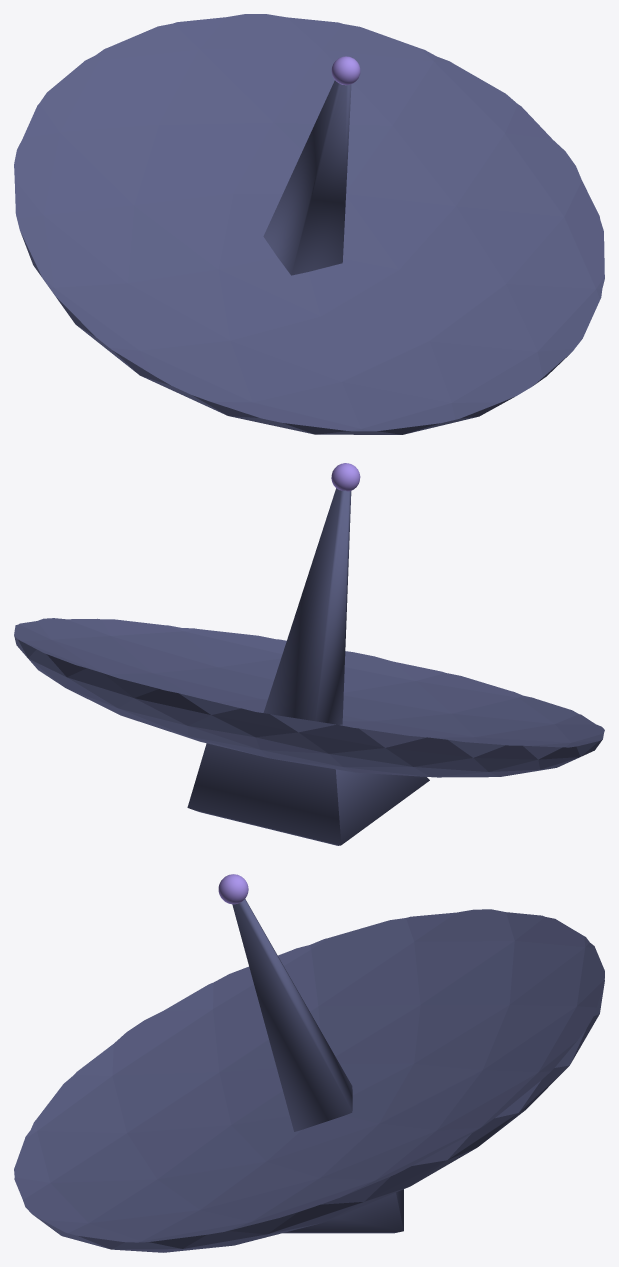
File: receiver_dish.glb
3 renders of one model, top to bottom at view 1: azimuth 30°, elevation 25°; view 2: azimuth 150°, elevation 25°; view 3: azimuth 270°, elevation 25°, orthographic. The views are drawn at different scales.
Visible parts, largest first — view 1: Icosphere, Cube, Icosphere.001; view 2: Icosphere, Cube.001, Cube, Icosphere.001; view 3: Icosphere, Cube, Cube.001, Icosphere.001.
Part boxes in pixels (x1,y1,x2,y2): Icosphere: (14, 14, 604, 434); Cube: (263, 80, 351, 275); Icosphere.001: (331, 56, 360, 85); Icosphere: (14, 618, 604, 777); Cube.001: (187, 743, 429, 845); Cube: (263, 488, 351, 724); Icosphere.001: (331, 463, 360, 491); Icosphere: (14, 909, 604, 1252); Cube: (232, 899, 352, 1131); Cube.001: (283, 1189, 403, 1233); Icosphere.001: (218, 874, 248, 904).
Bounding box in the file's own units: 10.67 × 6.08 × 10.03.
